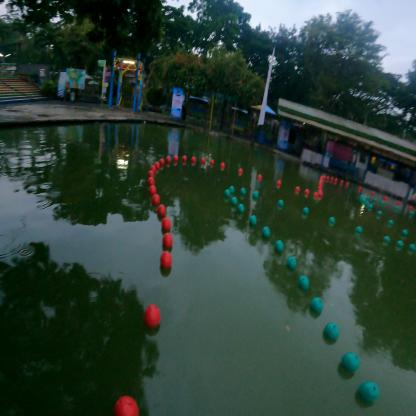green_buoy: (359, 380, 378, 407), (342, 351, 358, 377), (323, 322, 338, 344), (312, 297, 322, 319), (274, 240, 285, 258), (286, 255, 296, 274), (299, 275, 309, 294), (230, 197, 238, 211), (262, 227, 270, 241), (250, 215, 257, 230), (238, 204, 246, 217), (225, 188, 231, 202)
red_buoy: (144, 303, 161, 335), (114, 395, 139, 416), (160, 251, 171, 273), (163, 234, 172, 250), (162, 218, 171, 232), (153, 193, 160, 207), (158, 204, 165, 216), (165, 152, 171, 164), (149, 186, 156, 196), (148, 177, 154, 187), (148, 169, 154, 178), (159, 158, 164, 168), (182, 153, 186, 162), (200, 157, 204, 166), (152, 163, 155, 175), (173, 154, 177, 162), (191, 156, 195, 164)
